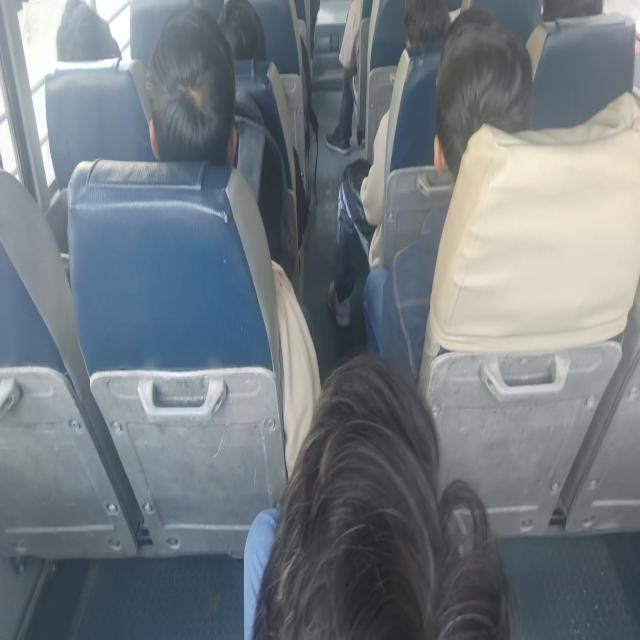person: (272, 346, 499, 640), (438, 18, 534, 168), (144, 19, 234, 171), (49, 0, 127, 72), (206, 0, 270, 59), (396, 0, 462, 52)
